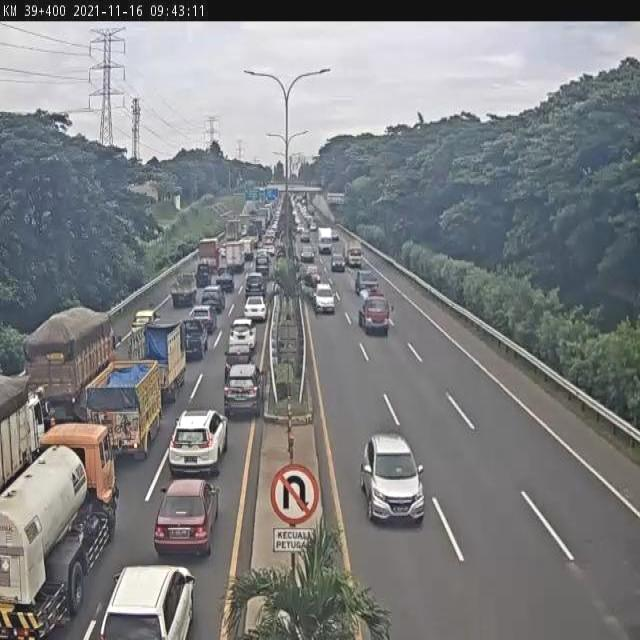Car: (95, 564, 194, 640), (361, 432, 424, 525), (153, 476, 220, 558), (170, 408, 228, 477), (223, 361, 264, 416), (228, 320, 258, 356), (223, 343, 255, 374), (188, 305, 217, 338), (313, 282, 336, 316), (130, 309, 162, 332), (201, 284, 225, 313), (354, 270, 380, 295), (244, 296, 268, 322), (244, 272, 265, 297), (304, 264, 320, 285), (331, 252, 345, 272), (300, 246, 314, 263), (300, 232, 310, 242), (332, 231, 339, 241)
Truck: (0, 419, 119, 640), (23, 306, 122, 426), (85, 359, 167, 458), (0, 373, 53, 492), (126, 318, 190, 403), (357, 289, 394, 335), (182, 316, 210, 361), (170, 272, 198, 308), (197, 238, 222, 277), (342, 235, 366, 268), (224, 241, 246, 274), (224, 218, 245, 248), (318, 227, 333, 255), (214, 274, 233, 294), (239, 238, 255, 260)
